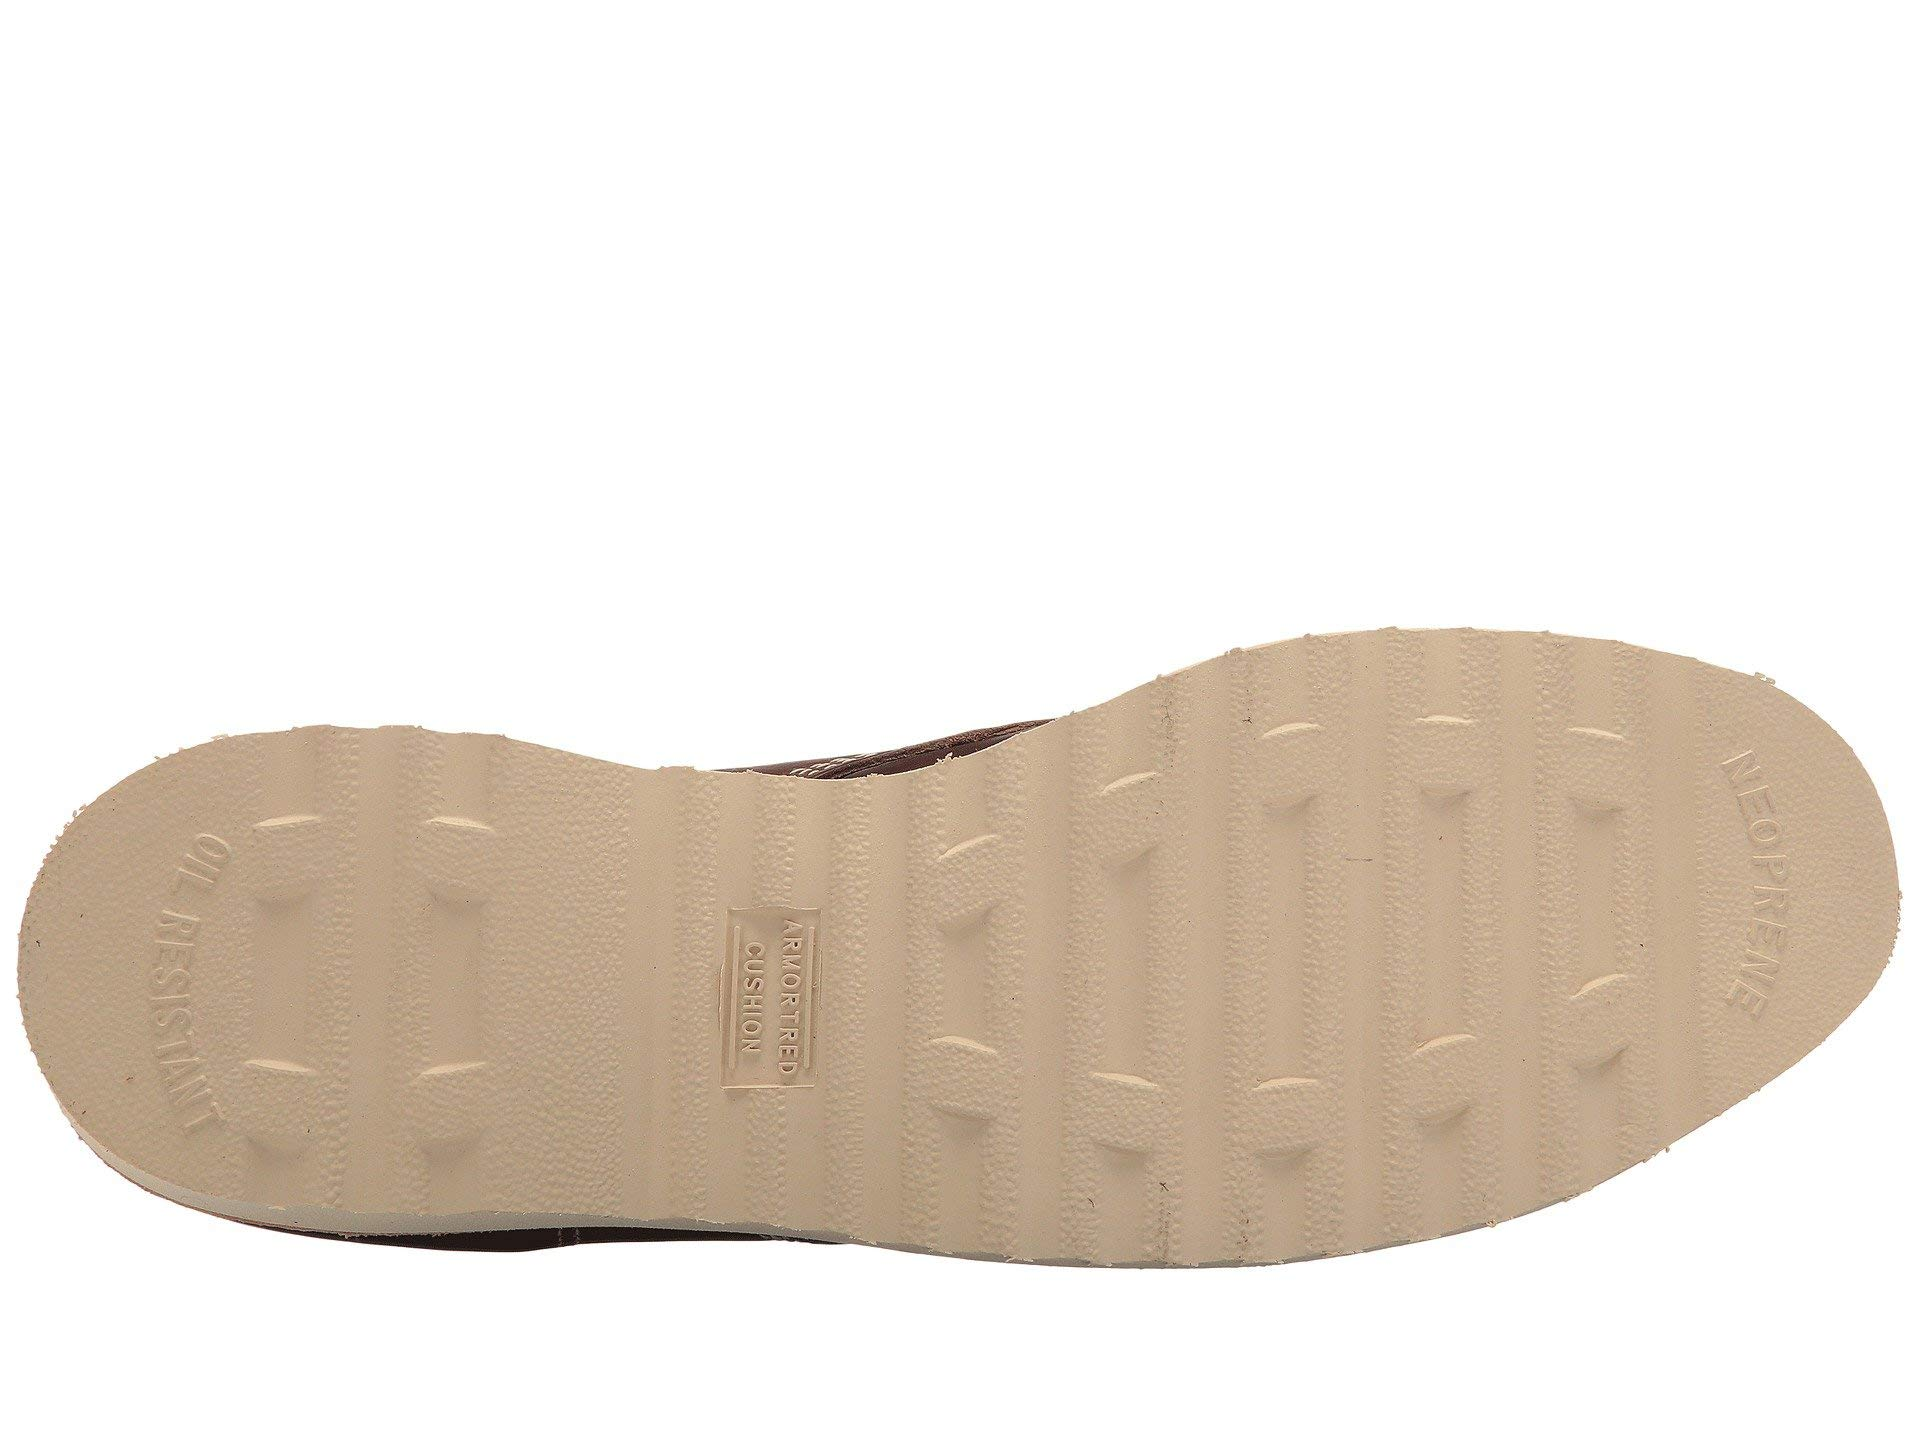circle: (116, 771, 543, 1178), (1701, 703, 1823, 1047), (689, 867, 833, 1112)
line: (1141, 682, 1642, 1122)
quad: (1141, 682, 1642, 1122), (116, 771, 543, 1178), (689, 867, 833, 1112)
text: (116, 771, 543, 1178), (1701, 703, 1823, 1047), (689, 867, 833, 1112)
